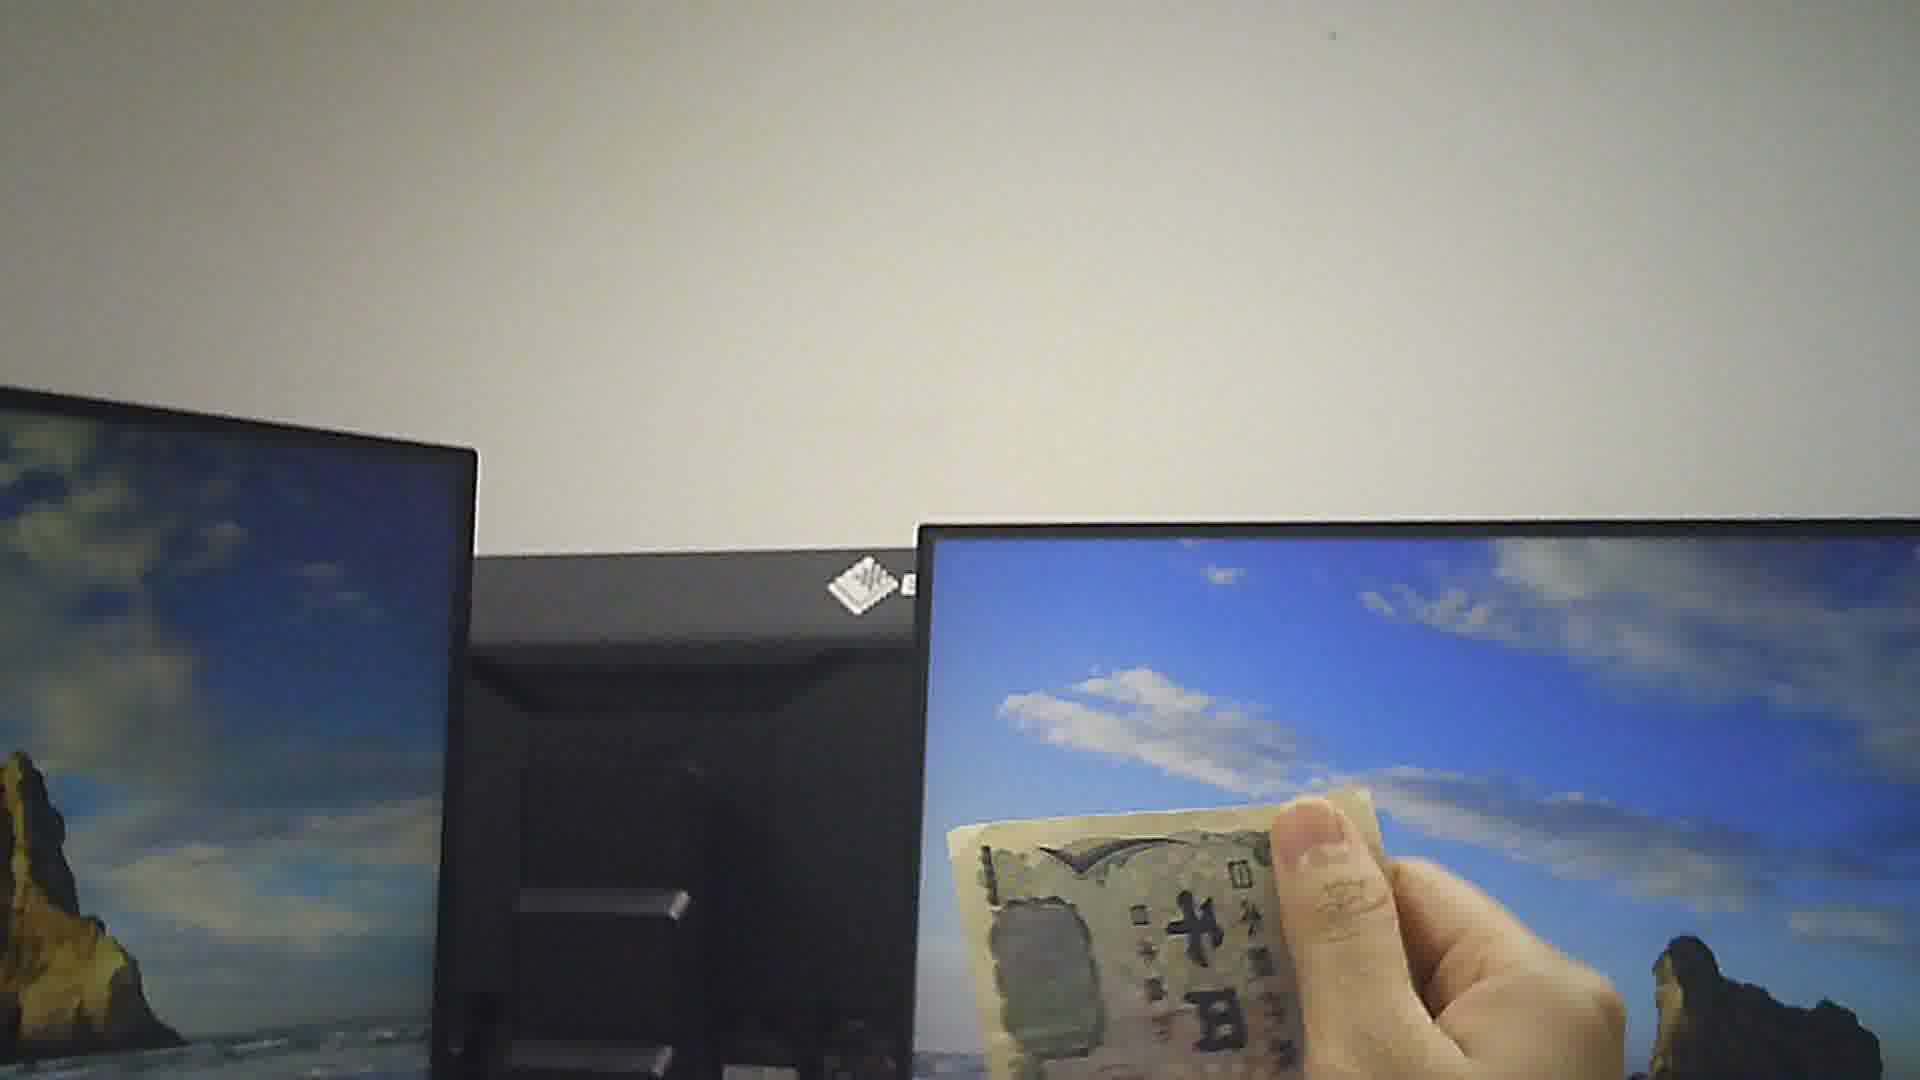1,000 Yen: (945, 800, 1371, 1079)
